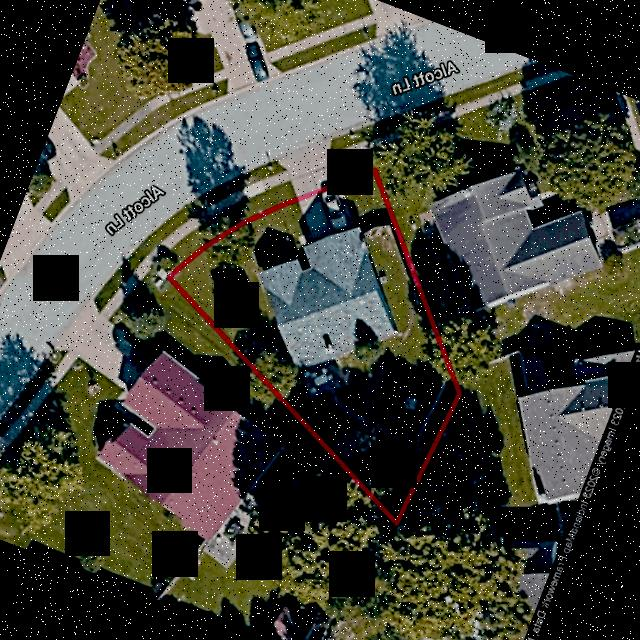Driveway: (300, 186, 354, 241), (303, 361, 349, 395)
Extra Driveway: (280, 140, 337, 195)
Extra Lawn: (145, 205, 188, 252), (248, 182, 294, 214), (330, 124, 373, 152), (171, 229, 202, 261), (334, 153, 370, 178), (248, 160, 285, 183)
Extra Sidewalk: (243, 170, 289, 198), (161, 217, 198, 248), (329, 140, 368, 163)
House: (257, 226, 396, 370)
